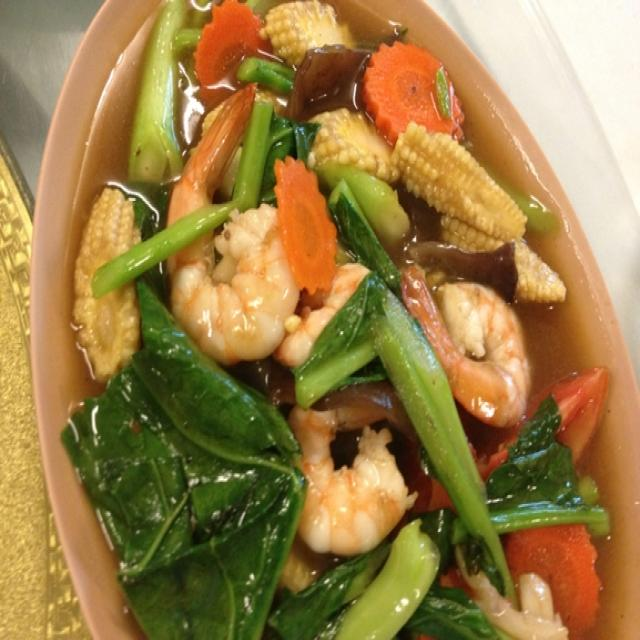蔬菜料理: (35, 18, 609, 597)
